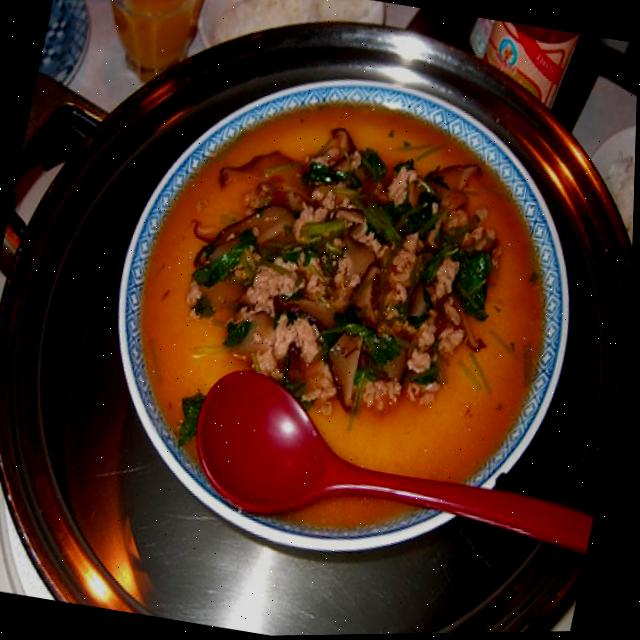鸡蛋料理: (65, 42, 610, 584)
